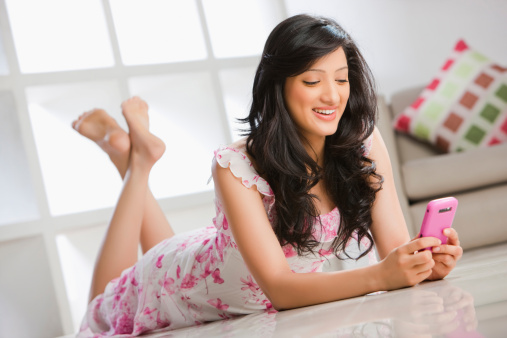deitado: (171, 13, 448, 322)
